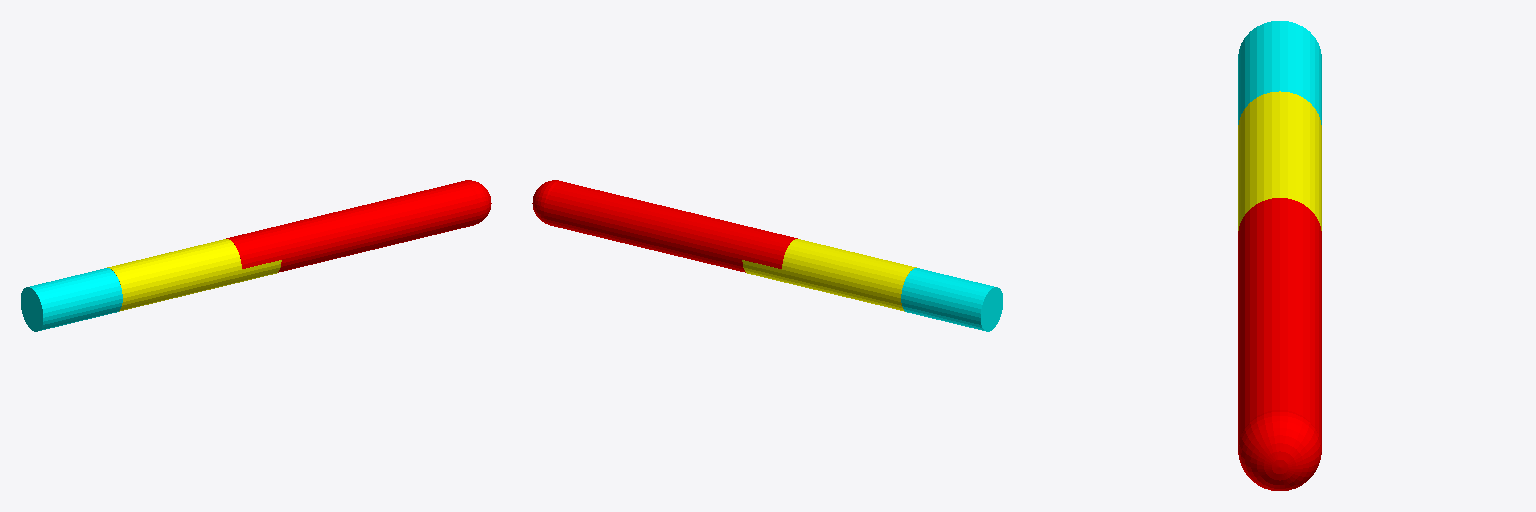
robot.urdf — spider:
<?xml version="1.0" ?>
<!-- =================================================================================== -->
<!-- |    This document was autogenerated by xacro from spider2.xacro                  | -->
<!-- |    EDITING THIS FILE BY HAND IS NOT RECOMMENDED                                 | -->
<!-- =================================================================================== -->
<robot name="spider" xmlns:xacro="http://www.ros.org/wiki/xacro">
  <link name="a_1">
    <visual>
      <geometry>
        <cylinder length="0.4" radius="0.1"/>
      </geometry>
      <origin rpy="0 1.57285 0" xyz="0 0 0"/>
      <material name="cyan">
        <color rgba="0 1 1 1"/>
      </material>
    </visual>
  </link>
  <link name="_2">
    <visual>
      <geometry>
        <cylinder length="0.8" radius="0.1"/>
      </geometry>
      <origin rpy="0 1.57285 0" xyz="0.4 0 0"/>
      <material name="yellow">
        <color rgba="1 1 0 1"/>
      </material>
    </visual>
  </link>
  &gt;
		
  <link name="_3">
    <visual>
      <geometry>
        <cylinder length="1.2" radius="0.1"/>
      </geometry>
      <origin rpy="0 1.57285 0" xyz="0.6 0 0"/>
      <material name="red">
        <color rgba="1 0 0 1"/>
      </material>
    </visual>
  </link>
  &gt;
		
  <link name="_4">
    <visual>
      <geometry>
        <sphere radius="0.1"/>
      </geometry>
      <origin rpy="0 1.57285 0" xyz="0.6 0 0"/>
      <material name="red">
        <color rgba="1 0 0 1"/>
      </material>
    </visual>
  </link>
  &gt;
		
  <joint name="joint_1_2" type="revolute">
    <parent link="a_1"/>
    <child link="_2"/>
    <origin rpy="0 0 0" xyz="0.2 0 0"/>
    <axis xyz="0 1 0"/>
    <limit effort="300" lower="-1.57" upper="1.57" velocity="0.1"/>
  </joint>
  <joint name="joint_2_3" type="revolute">
    <parent link="_2"/>
    <child link="_3"/>
    <origin rpy="0 0 0" xyz="0.6 0 0"/>
    <axis xyz="0 1 0"/>
    <limit effort="300" lower="-1.57" upper="1.57" velocity="0.1"/>
  </joint>
  <joint name="joint_3_4" type="fixed">
    <parent link="_3"/>
    <child link="_4"/>
    <origin xyz="0.6 0 0"/>
  </joint>
</robot>

--- What the picture shows (computed from the rendered views, not written in the file) ---
3 views of the same robot in one strip: view 1: azimuth 30°, elevation 25°; view 2: azimuth 150°, elevation 25°; view 3: azimuth 270°, elevation 25° (orthographic).
Model spider with 4 links and 3 joints (2 revolute, 1 fixed), rooted at a_1, posed every joint at zero.
Links seen in each view (by area): view 1: _3, _2, a_1; view 2: _3, _2, a_1; view 3: _3, _2, a_1, _4.
Link boxes in pixels (x1,y1,x2,y2): _3: [226, 182, 479, 272]; _2: [107, 239, 281, 311]; a_1: [21, 268, 122, 331]; _3: [544, 182, 797, 272]; _2: [742, 239, 916, 311]; a_1: [901, 268, 1002, 331]; _3: [1238, 198, 1321, 454]; _2: [1238, 91, 1321, 230]; a_1: [1238, 21, 1321, 124]; _4: [1238, 410, 1321, 490].
Bounding box of the posed robot: 2.3 × 0.2 × 0.2025 m (x, y, z).
Geometry: primitives only (box / cylinder / sphere), no mesh files.